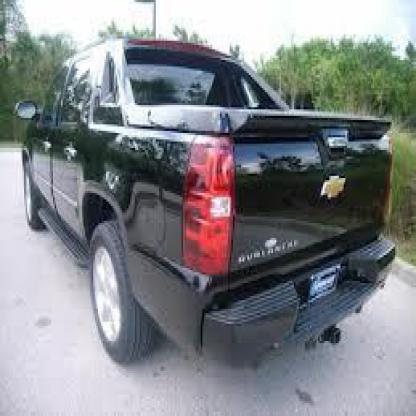Vehicle: (14, 39, 402, 371)
